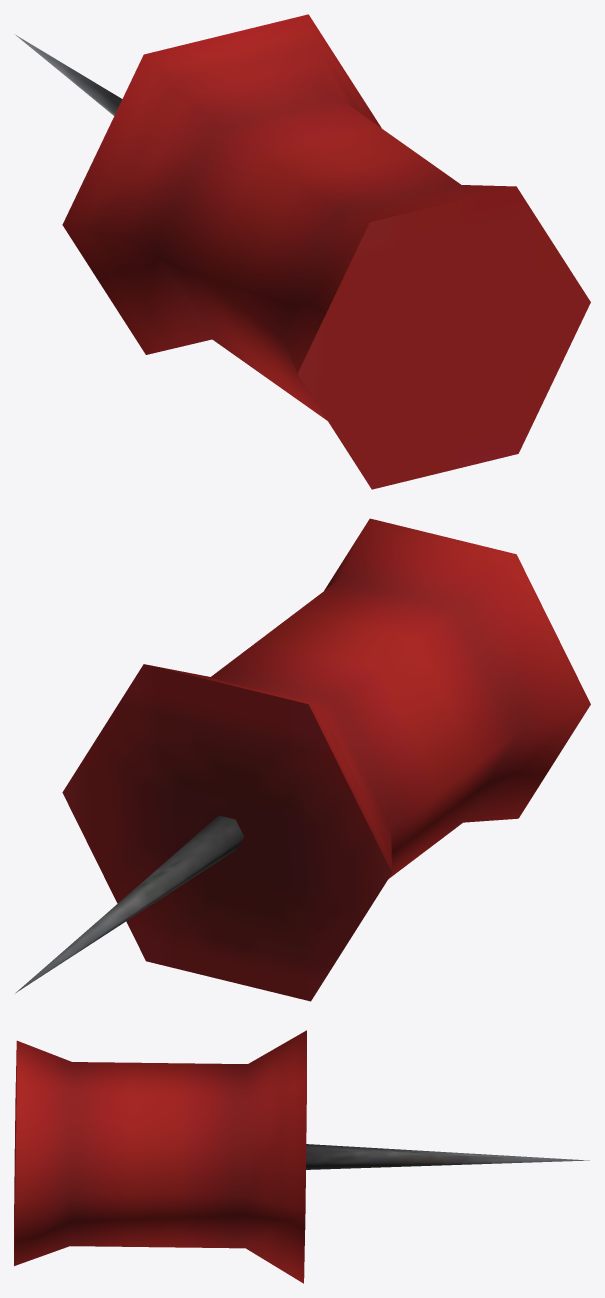
The model's file is thumbtack_red.dae.
The picture shows the model from 3 angles, top to bottom: view 1: azimuth 30°, elevation 25°; view 2: azimuth 150°, elevation 25°; view 3: azimuth 270°, elevation 25°; orthographic projection. The views are drawn at different scales.
Visible parts, largest first — view 1: polySurface9; view 2: polySurface9; view 3: polySurface9.
Boxes of the visible parts, bbox=[...] form: polySurface9: bbox=[14, 14, 590, 489]; polySurface9: bbox=[15, 518, 590, 1001]; polySurface9: bbox=[14, 1030, 589, 1283].
Bounding box in the file's own units: 0.0141 × 0.0123 × 0.032.
